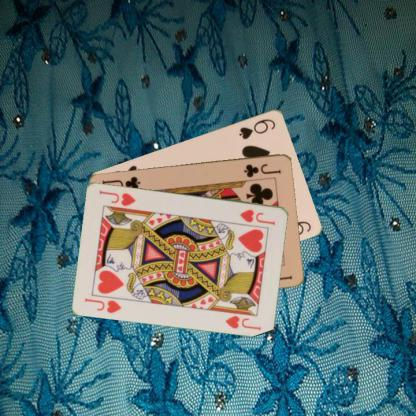6s: (236, 116, 277, 140)
Jc: (242, 160, 282, 178)
Jh: (237, 206, 277, 226), (82, 295, 123, 314)
